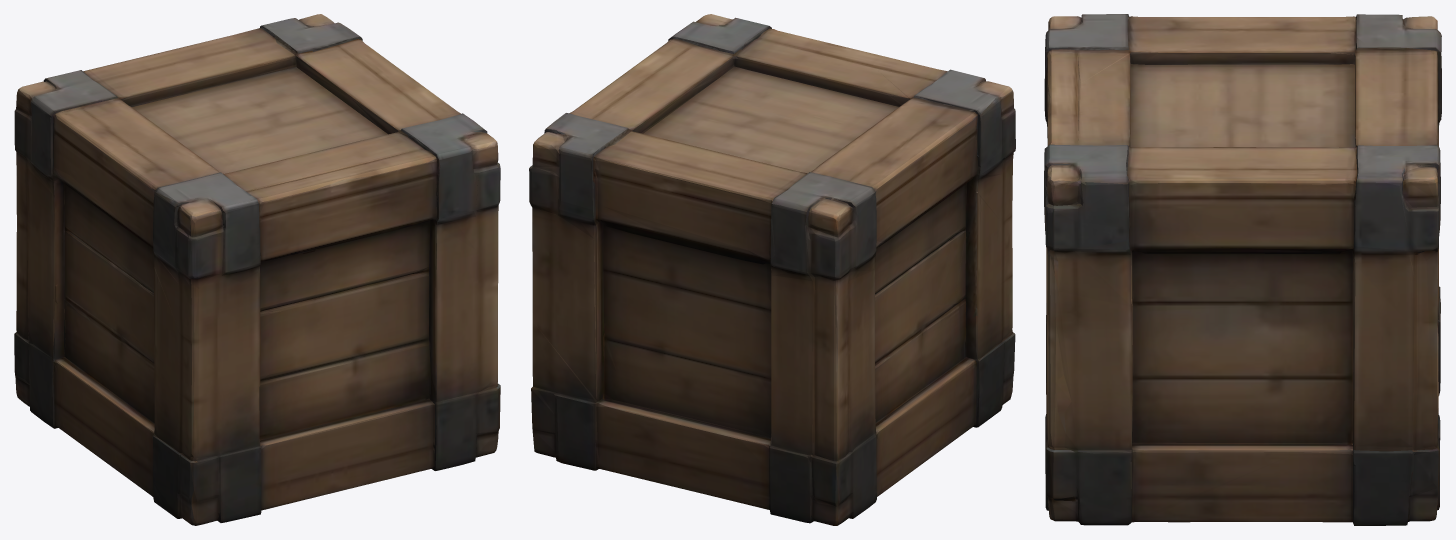
File: crate.glb
The picture shows the model from 3 angles, left to right: view 1: azimuth 30°, elevation 25°; view 2: azimuth 150°, elevation 25°; view 3: azimuth 270°, elevation 25°; orthographic projection. The views are drawn at different scales.
Visible parts, largest first — view 1: geometry_0; view 2: geometry_0; view 3: geometry_0.
Part boxes in pixels (bbox=[...]): geometry_0: bbox=[14, 14, 500, 525]; geometry_0: bbox=[529, 14, 1015, 525]; geometry_0: bbox=[1044, 14, 1441, 525].
Size of the model in its own units: 0.4857 by 0.4683 by 0.485.
Materials: 1 (1 with a texture image).
